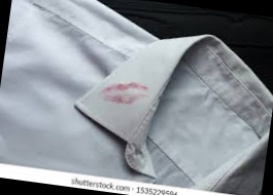lipstick: (102, 83, 149, 109)
